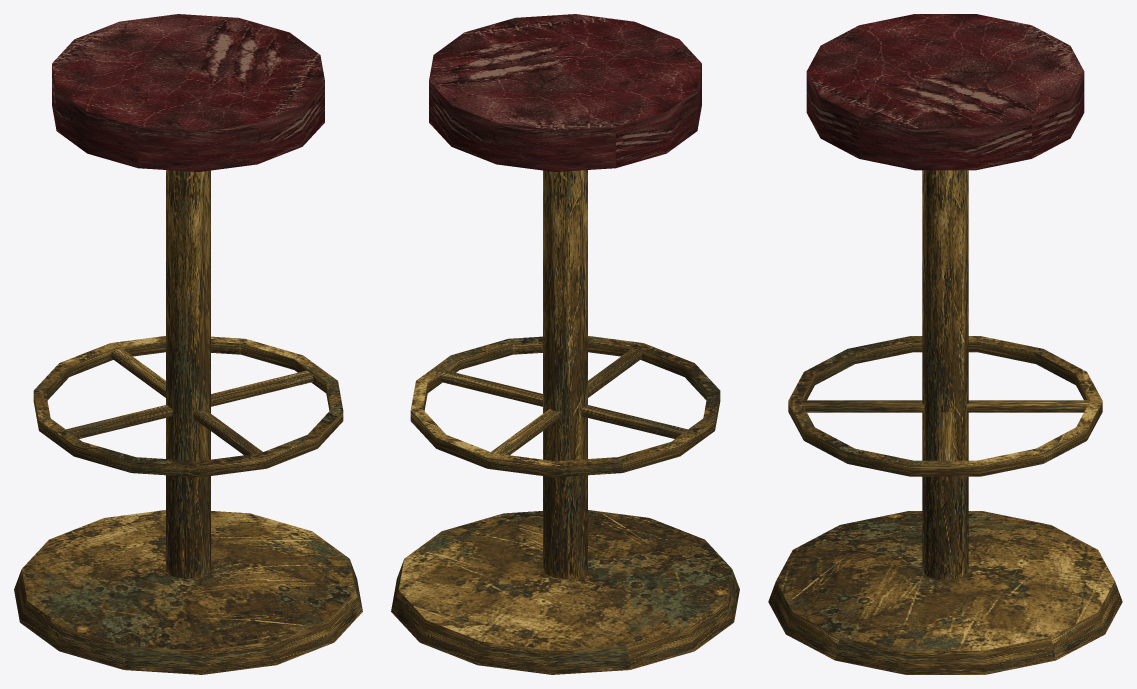
The model's file is HB_Stool.fbx.
3 renders of one model, left to right at view 1: azimuth 30°, elevation 25°; view 2: azimuth 150°, elevation 25°; view 3: azimuth 270°, elevation 25°, orthographic.
Visible parts, largest first — view 1: HB_Stool; view 2: HB_Stool; view 3: HB_Stool.
Part boxes in pixels (bbox=[...]): HB_Stool: bbox=[14, 14, 362, 674]; HB_Stool: bbox=[391, 14, 739, 674]; HB_Stool: bbox=[768, 14, 1122, 674].
Bounding box in the file's own units: 0.4485 × 0.76 × 0.46.
2 materials, 2 textured.
